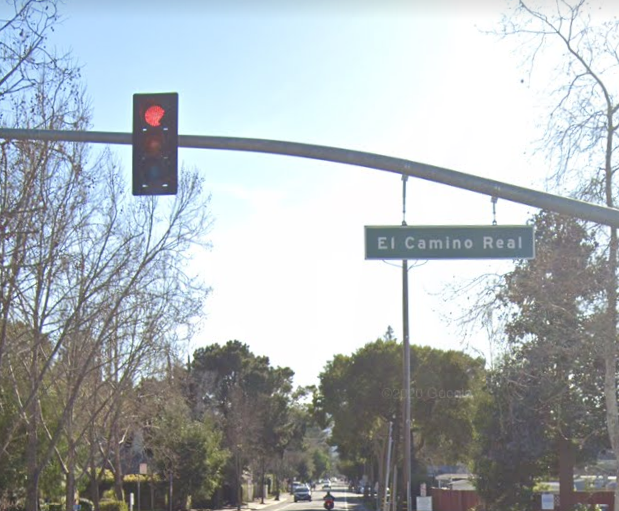red_light: (133, 92, 176, 195)
